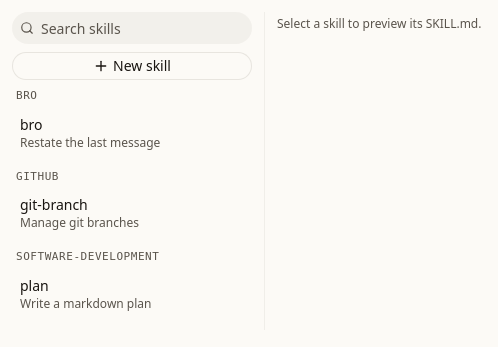
Test case: SkillsPanel › filters the list by search query
Expected: the text "git-branch" is shown, [20,195,88,214]
In the field labelled "Search skills": (132, 28) [12,12,252,44], type "git"
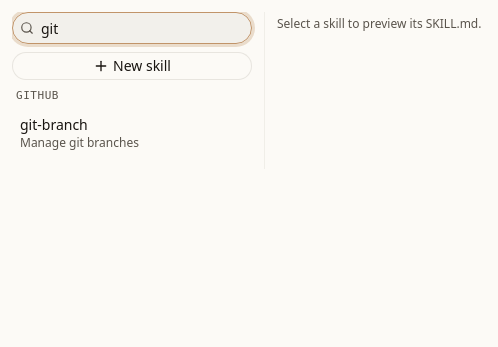
Expected: the text "git-branch" is shown, [20,114,88,134]
Expected: the button "plan" is gone
Expected: the heading "bro" is gone
